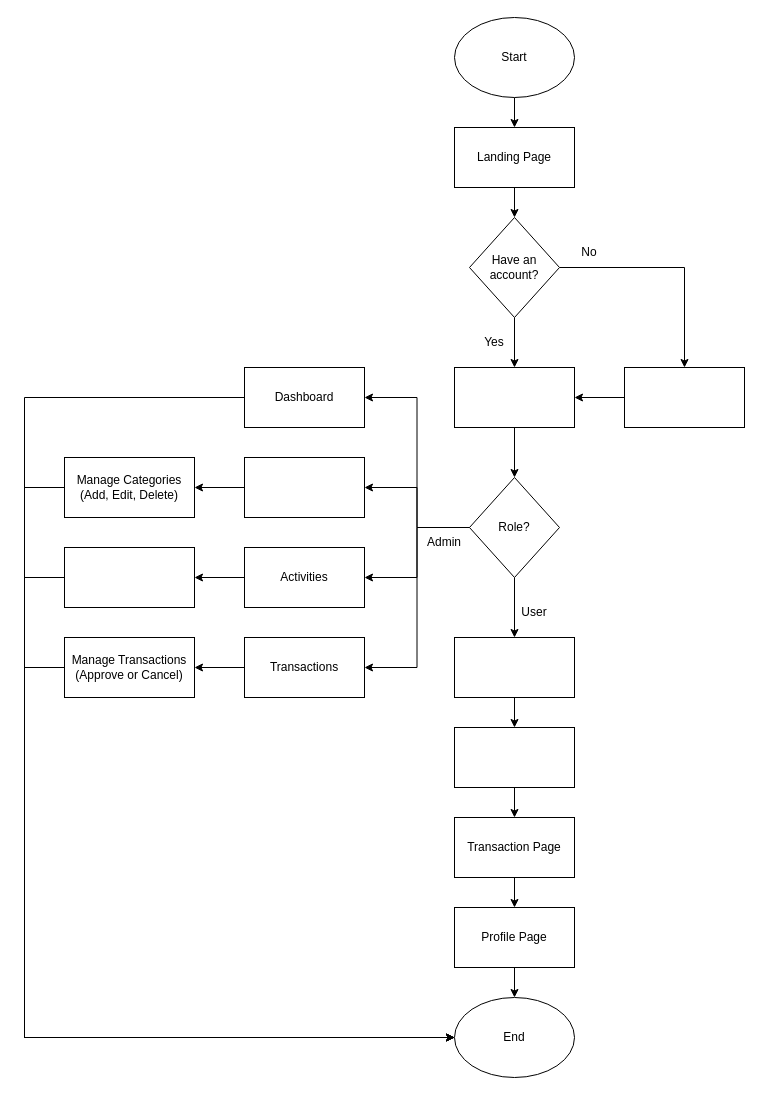
Some shapes in this 762 by 1095 pixel diagram are drawn without their labels. The box of each missing label's shape, as (x1, y1, x2, y2) in pixels:
Activity Detail Page: (454, 726, 574, 788)
Activity Page: (454, 636, 574, 698)
Categories: (244, 456, 364, 518)
Login: (454, 366, 574, 428)
Manage Activites (Add, Edit, Delete): (64, 546, 194, 608)
Register: (624, 366, 744, 428)
